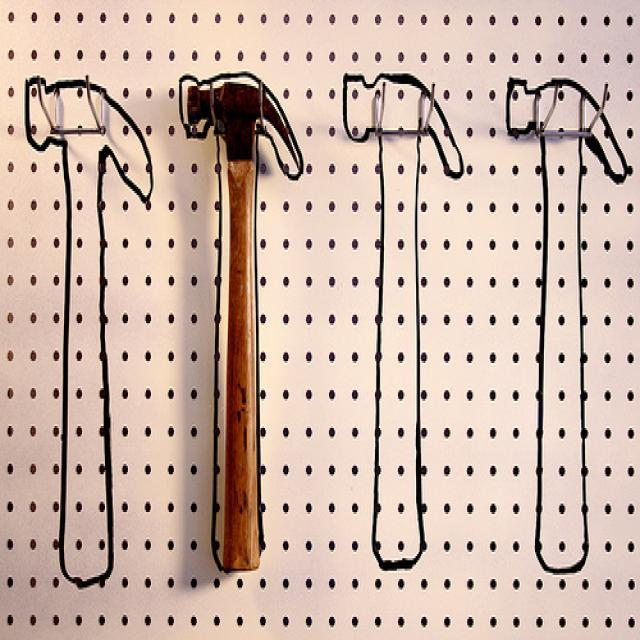hammer: (183, 62, 294, 580)
